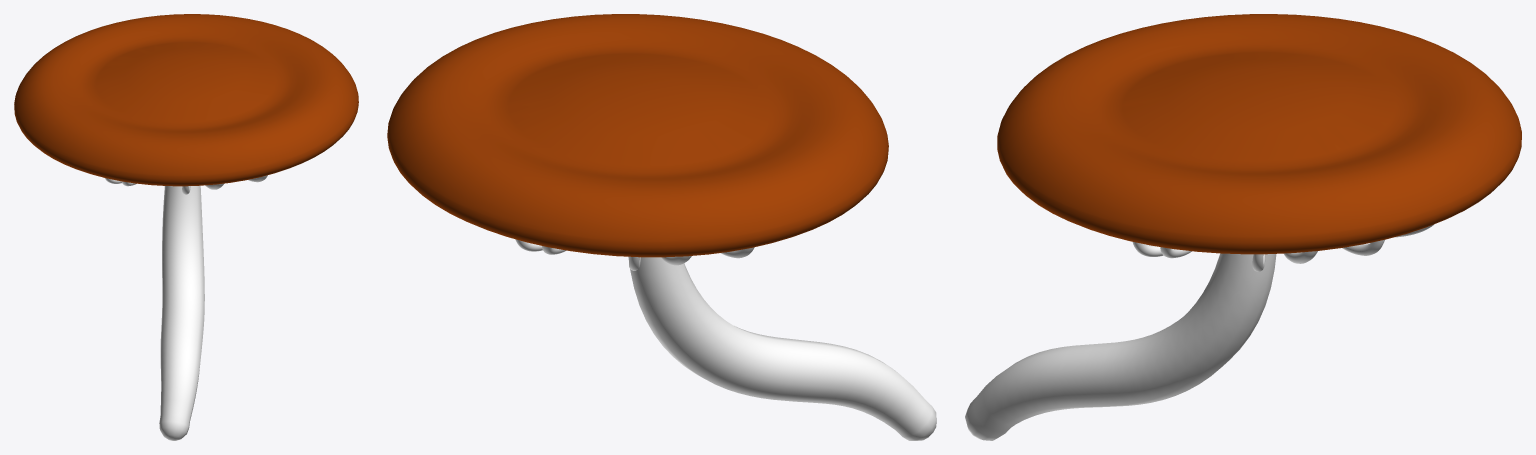
Rendered from shroom_7.glb.
3 renders of one model, left to right at view 1: azimuth 30°, elevation 25°; view 2: azimuth 150°, elevation 25°; view 3: azimuth 270°, elevation 25°, orthographic. The views are drawn at different scales.
Parts seen in each view (by area): view 1: s.0069; view 2: s.0069; view 3: s.0069.
Part boxes in pixels (x1,y1,x2,y2): s.0069: (14,14,358,440); s.0069: (387,14,936,440); s.0069: (965,14,1521,440).
Bounding box in the file's own units: 1.21 × 1.08 × 1.28.
